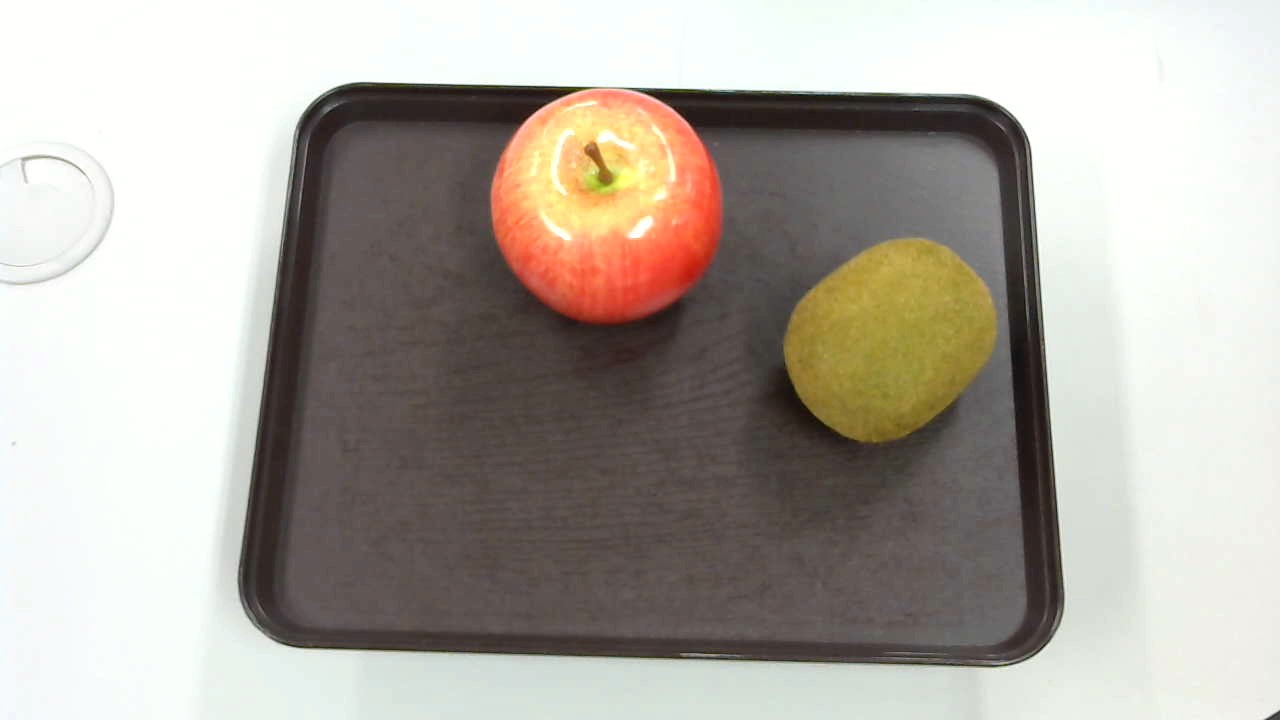kiwi fruit: (779, 237, 1002, 451)
red apple: (485, 86, 724, 324)
